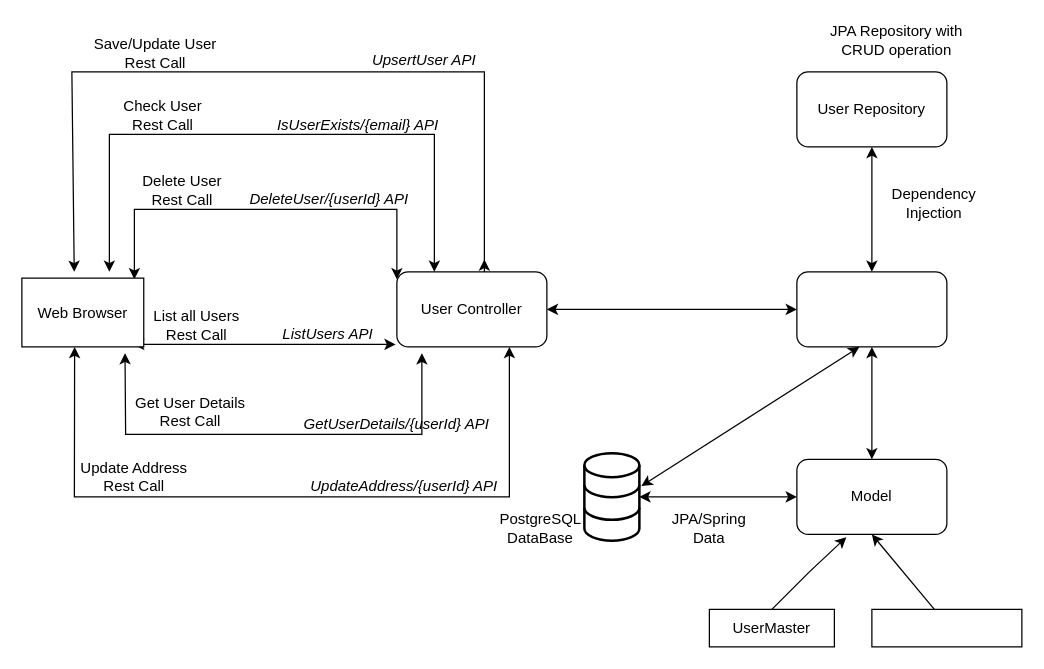
This 1044x669 diagram has some shape labels left out. The shapes that lost their labels are listed below. From the top down, each one's box as (x1, y1, x2, y2) in pixels, then its label:
(796, 271, 947, 347): User Service
(871, 608, 1022, 647): AddressMaster
